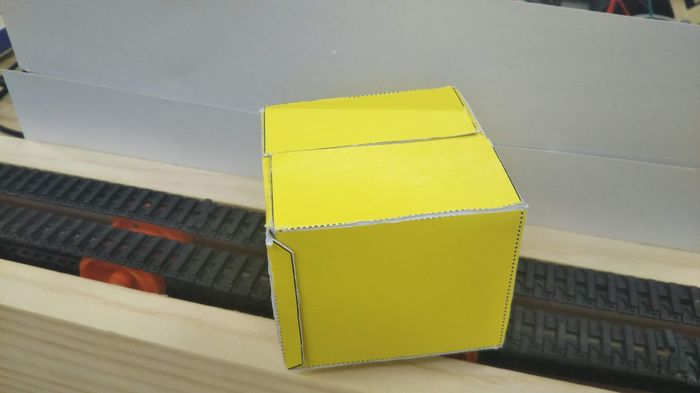box4: (255, 81, 525, 371)
